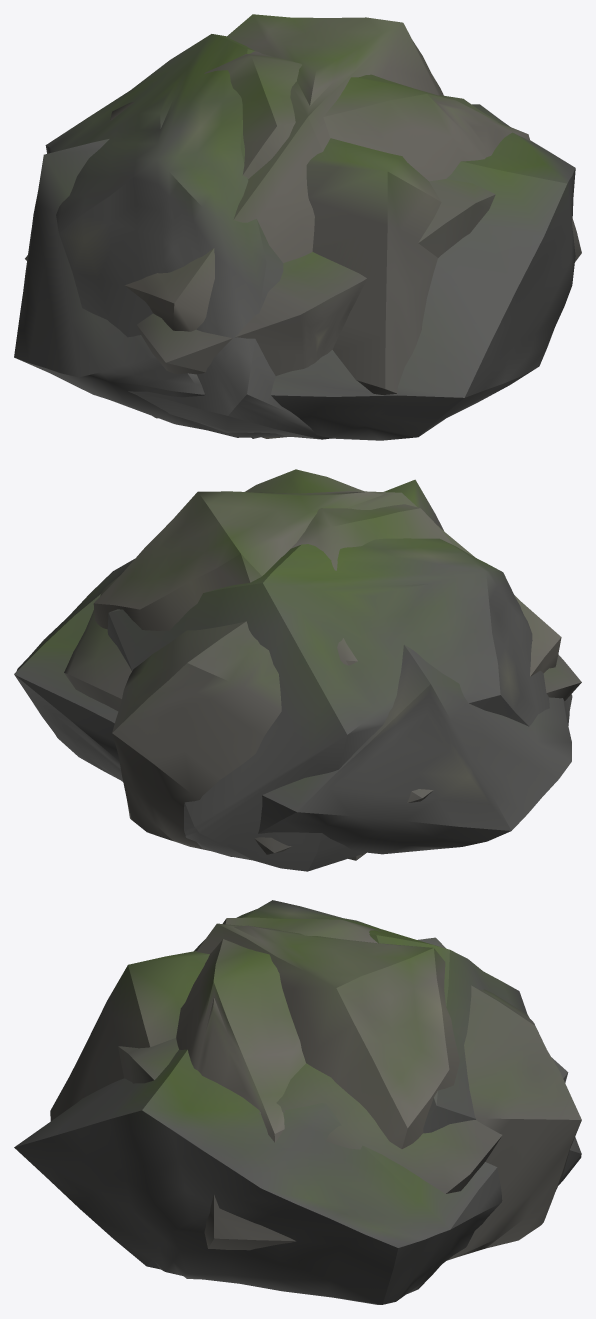
File: env.glb
3 renders of one model, top to bottom at view 1: azimuth 30°, elevation 25°; view 2: azimuth 150°, elevation 25°; view 3: azimuth 270°, elevation 25°, orthographic. The views are drawn at different scales.
Parts seen in each view (by area): view 1: rock4, rock1, rock0, rock5, rock3, rock2; view 2: rock1, rock4, rock5, rock0, rock3, rock2; view 3: rock4, rock5, rock0, rock3, rock2, rock1.
Boxes of the visible parts, <box> form: rock4: <box>14,104,575,440</box>; rock1: <box>45,34,333,439</box>; rock0: <box>125,14,443,438</box>; rock5: <box>25,138,441,394</box>; rock3: <box>110,51,530,418</box>; rock2: <box>137,95,581,375</box>; rock1: <box>107,538,572,871</box>; rock4: <box>14,559,571,854</box>; rock5: <box>112,479,443,856</box>; rock0: <box>93,491,561,676</box>; rock3: <box>245,469,452,665</box>; rock2: <box>64,575,581,711</box>; rock4: <box>14,937,568,1304</box>; rock5: <box>50,951,581,1260</box>; rock0: <box>196,923,459,1148</box>; rock3: <box>176,917,380,1142</box>; rock2: <box>118,1038,502,1250</box>; rock1: <box>184,900,581,1279</box>.
Bounding box in the file's own units: 2.37 × 1.36 × 2.36.
